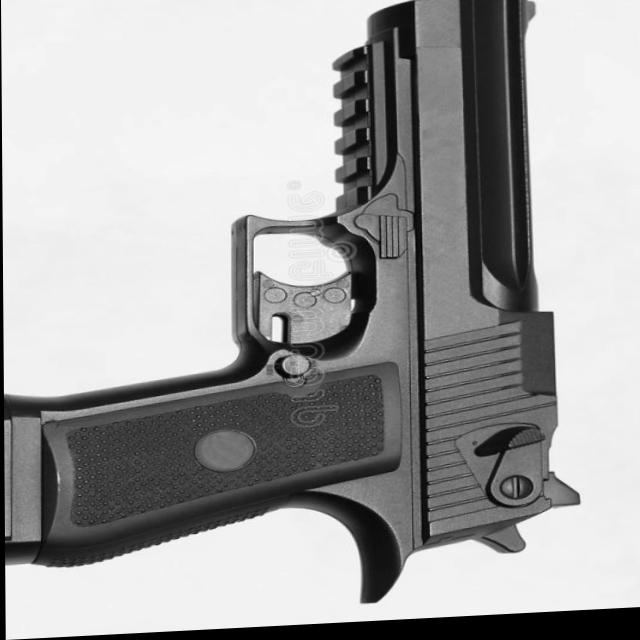handgun: (0, 0, 593, 635)
